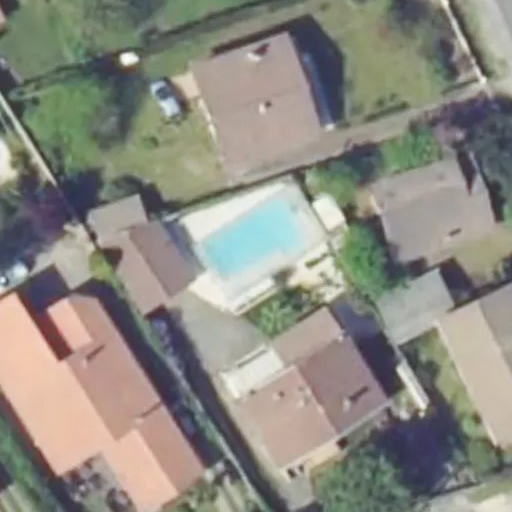pool: (198, 187, 314, 281)
